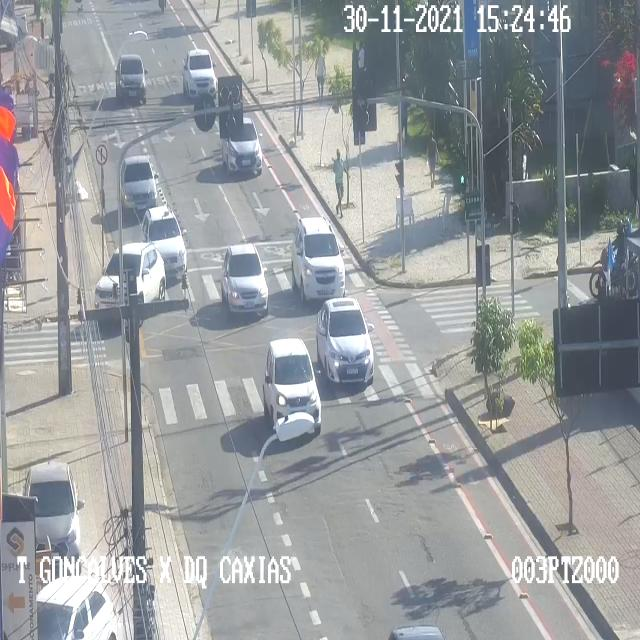Car: (24, 461, 84, 567), (264, 337, 322, 439), (37, 573, 117, 639), (93, 242, 166, 314), (317, 297, 375, 381), (290, 217, 345, 301), (220, 243, 269, 320), (222, 116, 264, 178), (120, 154, 158, 212), (183, 47, 217, 101), (115, 54, 148, 104)
Motorcycle: (589, 219, 639, 295)
